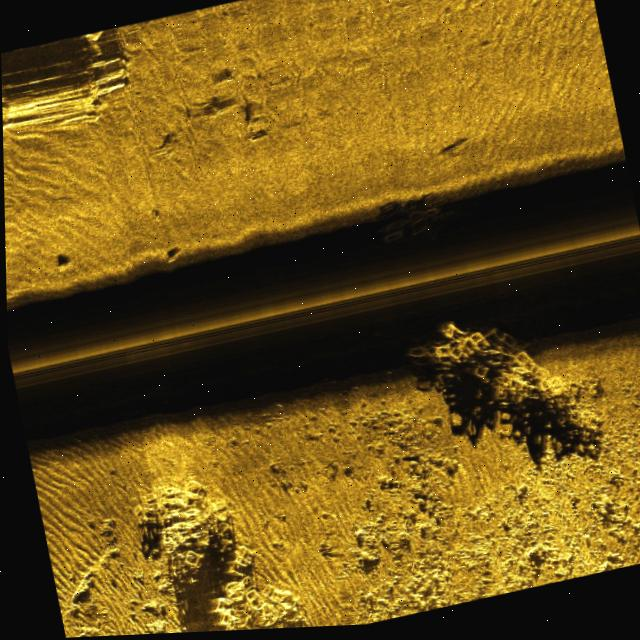artificial reef: (401, 298, 600, 492), (128, 462, 296, 636), (365, 188, 472, 260)
